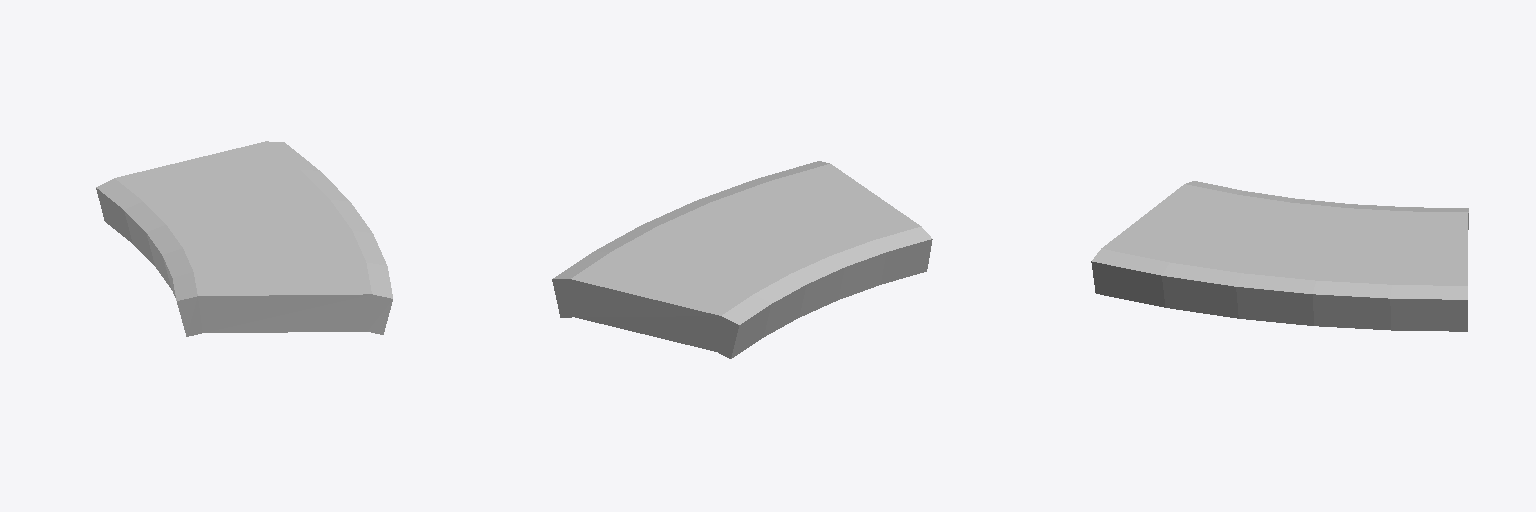
Rendered from RoadCurve(0).obj.
The picture shows the model from 3 angles: view 1: azimuth 30°, elevation 25°; view 2: azimuth 150°, elevation 25°; view 3: azimuth 270°, elevation 25°; orthographic projection.
Visible parts, largest first — view 1: RoadCurve(0); view 2: RoadCurve(0); view 3: RoadCurve(0).
Boxes of the visible parts, x1=… form: RoadCurve(0): x1=96, y1=141, x2=392, y2=336; RoadCurve(0): x1=552, y1=161, x2=932, y2=358; RoadCurve(0): x1=1091, y1=181, x2=1468, y2=331.
Bounding box in the file's own units: 6.87 × 1.1 × 9.19.